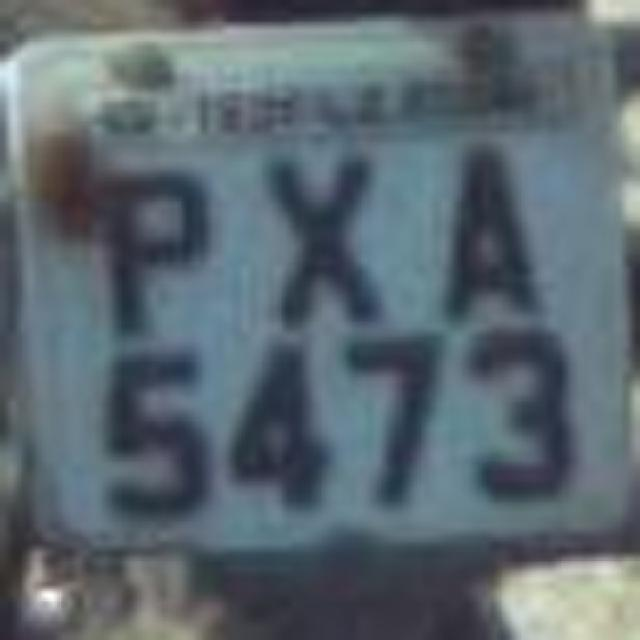3: (432, 324, 592, 531)
4: (200, 311, 335, 524)
5: (68, 329, 224, 516)
7: (312, 324, 448, 511)
A: (420, 136, 555, 349)
P: (84, 144, 216, 351)
X: (255, 144, 400, 328)
